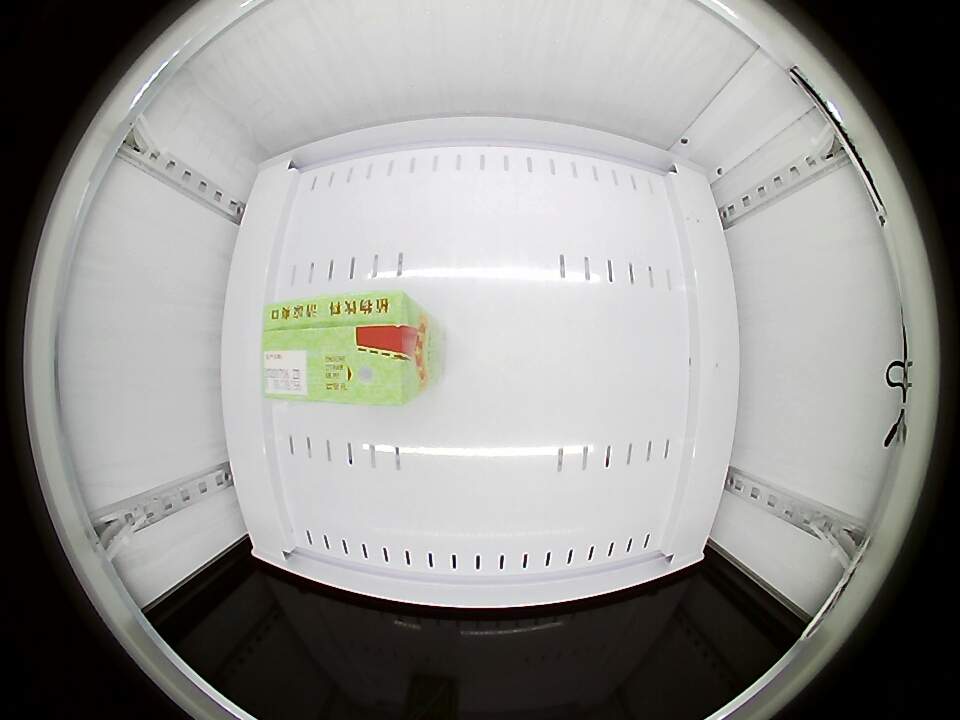wanglaoji: (262, 292, 428, 404)
